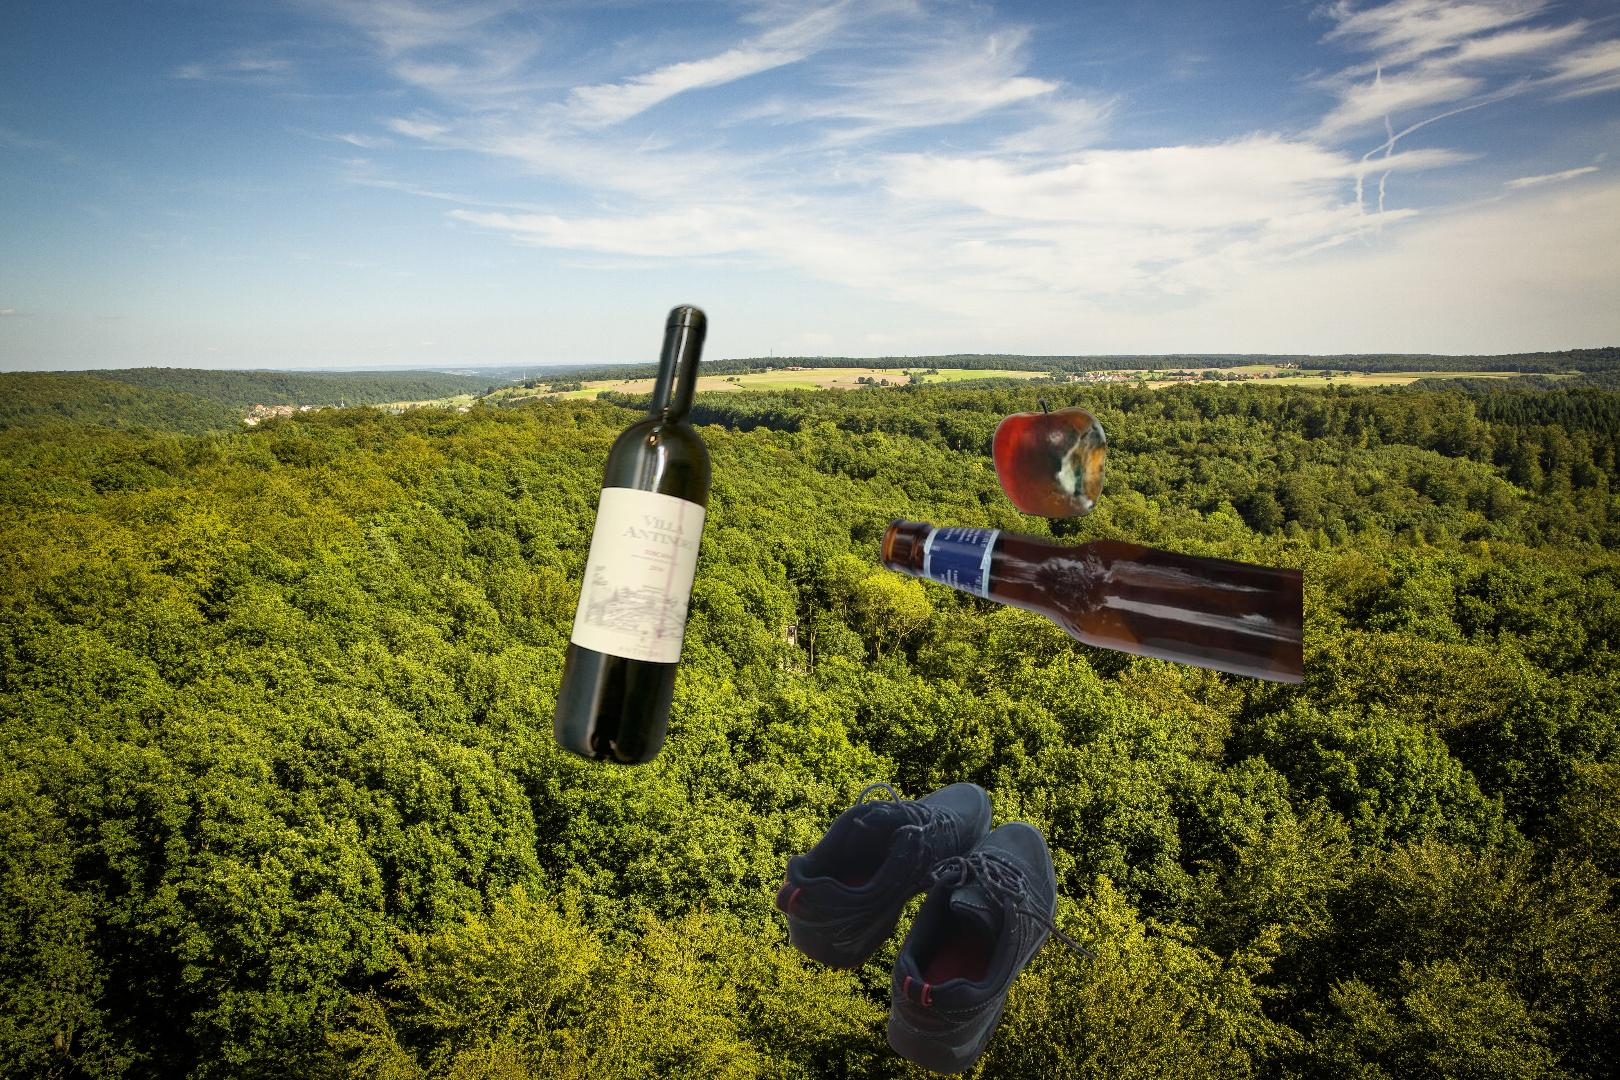biological: (990, 395, 1110, 522)
glass: (548, 299, 716, 772), (875, 516, 1303, 689)
shoes: (770, 778, 1100, 1079)
